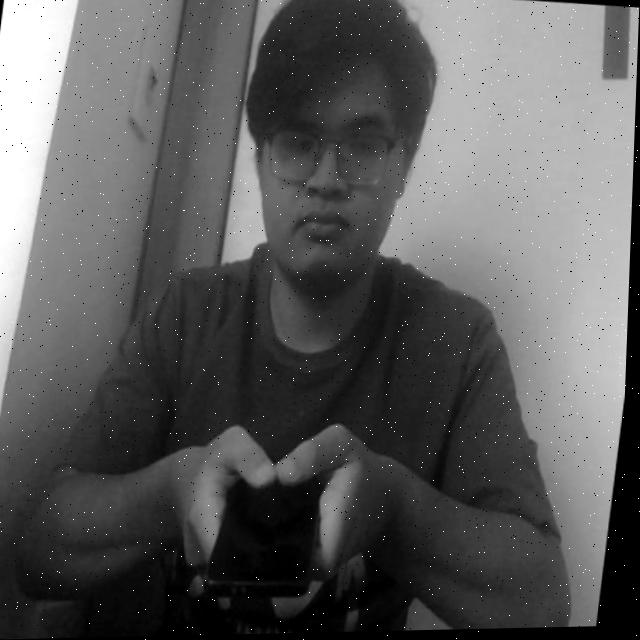phone: (189, 429, 350, 615)
